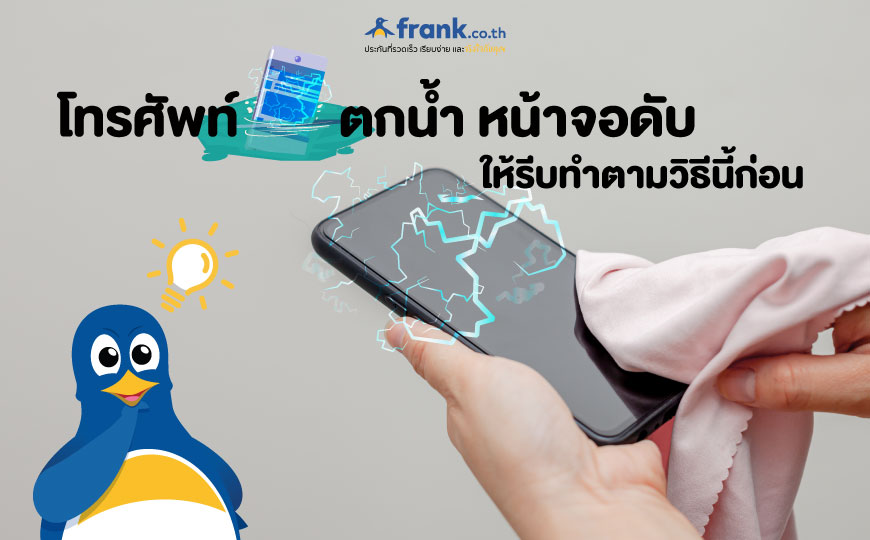phone: (307, 161, 695, 451)
